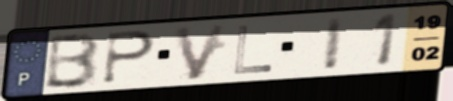1: (369, 11, 399, 70)
B: (41, 30, 102, 90)
I: (321, 14, 348, 73)
L: (231, 23, 275, 76)
P: (100, 29, 159, 85)
V: (171, 21, 231, 83)
